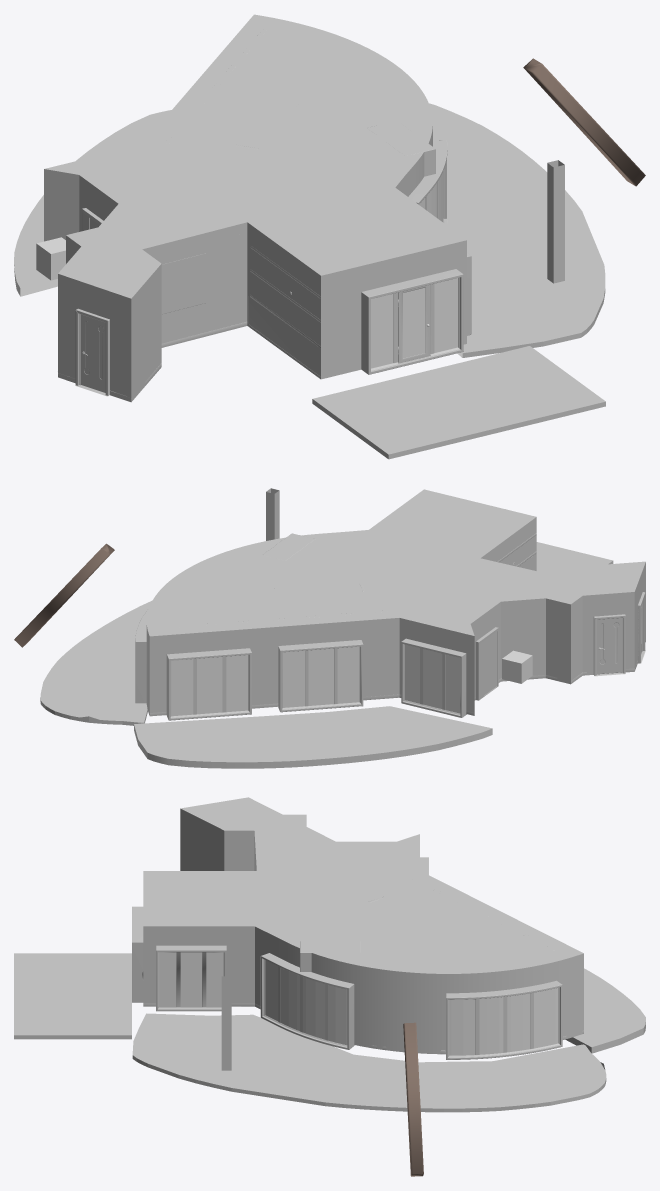
File: TM's_Living_room_interior.fbx
3 renders of one model, top to bottom at view 1: azimuth 30°, elevation 25°; view 2: azimuth 150°, elevation 25°; view 3: azimuth 270°, elevation 25°, orthographic. The views are drawn at different scales.
Parts seen in each view (by area): view 1: Ceiling, Porch, Cube.033, Walls_Kitchen.001, Walls_Corridor.016, Walls_Corridor.000, Porch.001, EntryBack, MainRoom3Wall.001, Walls_Corridor.006, RoofBeam.001, Walls_Corridor.005 (+16 smaller); view 2: Ceiling, Porch.001, MainRoom.001, Porch, Window_Wall.001, Window_Wall.004, Window_Wall.005, Walls_Corridor.004, Walls_Corridor.013, Walls_Corridor.018, Window_Wall.002, Window_Wall (+18 smaller); view 3: Ceiling, Porch, Curve wall, Cube.033, Window_Wall_Arc.002, MainRoom3Wall, Window_Wall_Arc.003, Porch.001, WindowLarge.001, Window_Wall_Arc.001, Window_Wall_Arc, Walls_Corridor.006 (+6 smaller).
Part boxes in pixels (x1,y1,x2,y2): Ceiling: (45,14,466,298); Porch: (429,103,605,357); Cube.033: (312,346,605,459); Walls_Kitchen.001: (321,240,466,379); Walls_Corridor.016: (142,222,247,347); Walls_Corridor.000: (58,274,131,401); Porch.001: (14,110,171,296); EntryBack: (361,269,463,374); MainRoom3Wall.001: (247,222,320,324); Walls_Corridor.006: (131,264,161,401); RoofBeam.001: (523,58,645,186); Walls_Corridor.005: (44,169,79,241); Ceiling: (146,489,645,636); Porch.001: (134,706,492,768); MainRoom.001: (149,618,399,716); Porch: (40,600,152,725); Window_Wall.001: (171,655,248,716); Window_Wall.004: (283,646,359,707); Window_Wall.005: (405,644,460,713); Walls_Corridor.004: (501,598,545,681); Walls_Corridor.013: (582,592,634,675); Walls_Corridor.018: (399,618,474,715); Window_Wall.002: (166,648,251,720); Window_Wall: (278,640,363,712); Ceiling: (143,797,583,973); Porch: (132,1013,606,1112); Curve wall: (255,926,583,1054); Cube.033: (14,953,131,1039); Window_Wall_Arc.002: (449,988,558,1055); MainRoom3Wall: (143,926,254,1006); Window_Wall_Arc.003: (265,960,347,1045); Porch.001: (565,968,645,1053); WindowLarge.001: (159,952,223,1007); Window_Wall_Arc.001: (446,980,562,1059); Window_Wall_Arc: (260,953,354,1049); Walls_Corridor.006: (180,808,224,870).
Bounding box in the file's own units: 2170 × 474 × 2211.
